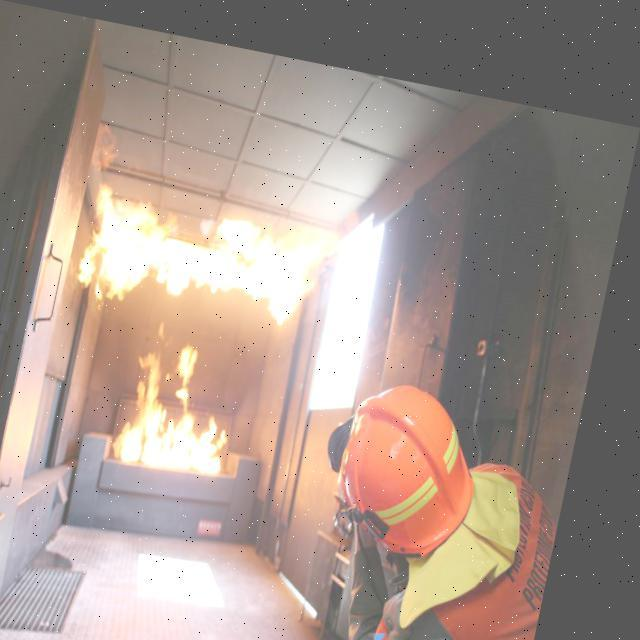Fire: (88, 165, 347, 324), (128, 335, 259, 464)
